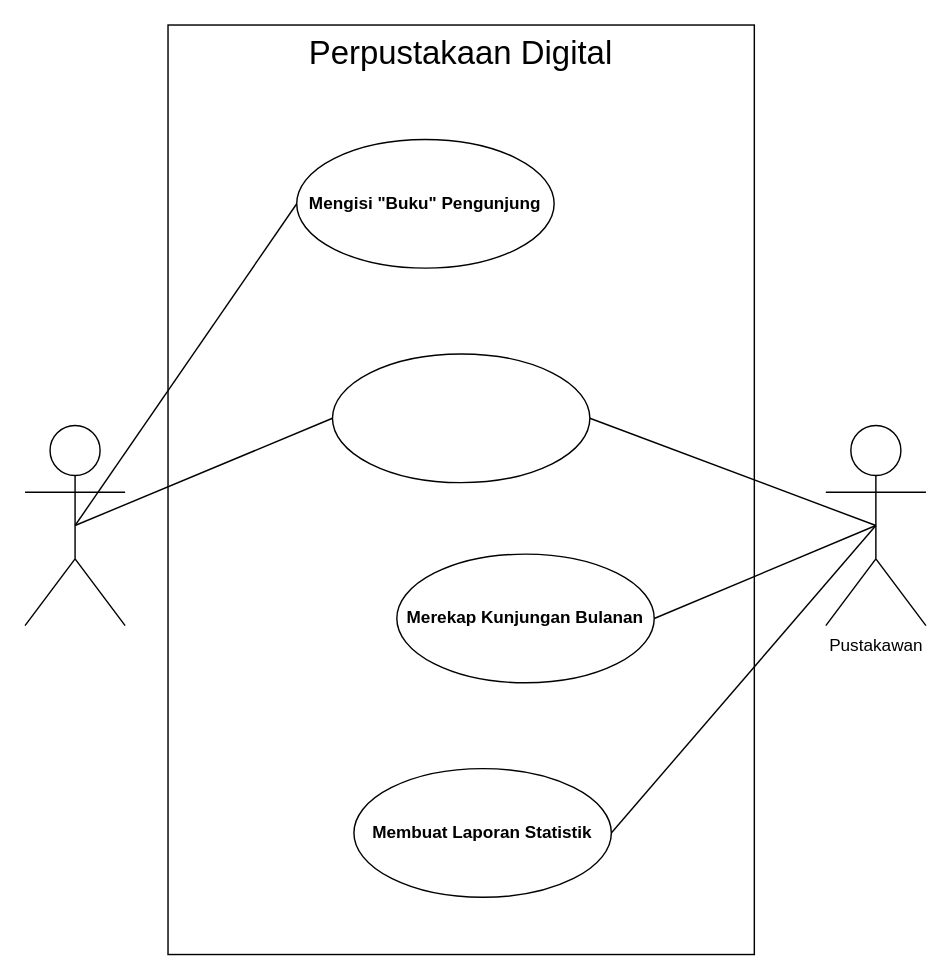
The diagram is 951 pixels wide and 980 high, and some of its shapes have lost their labels. The box of each missing label's shape, as (x1, y1, x2, y2) in pixels:
Melihat Riwayat Kunjungan: (331, 352, 590, 483)
Pengunjung: (24, 424, 125, 626)
